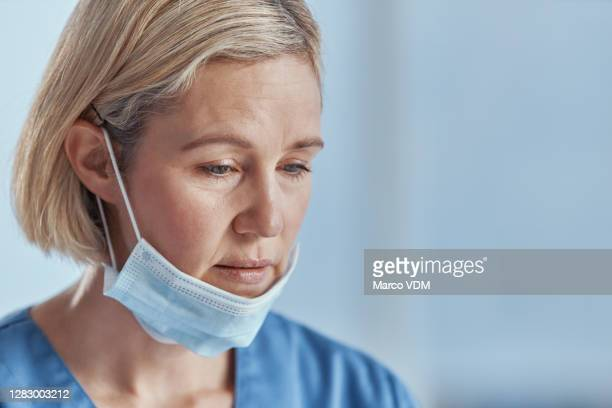mask_weared_incorrect: (125, 132, 325, 348)
